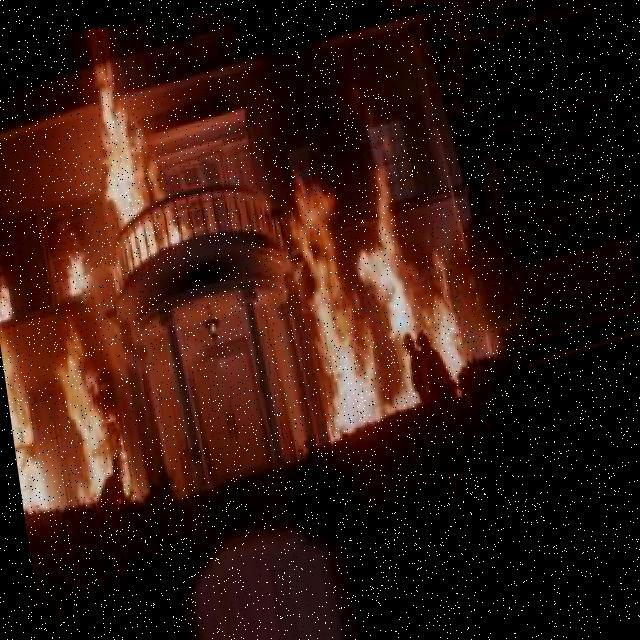Fire: (347, 111, 470, 390), (281, 178, 390, 440), (87, 75, 195, 288), (58, 327, 135, 503), (55, 227, 100, 313)
Smoke: (256, 51, 355, 189), (331, 13, 426, 125)
